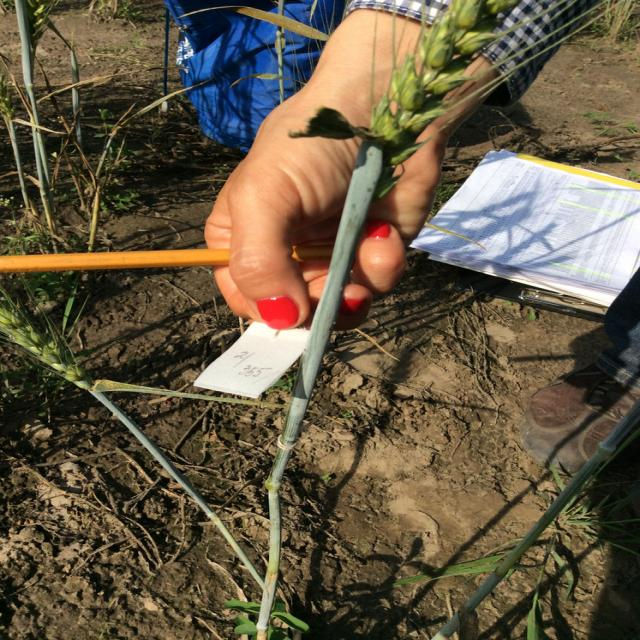wheat-yellowrust: (1, 250, 217, 273)
